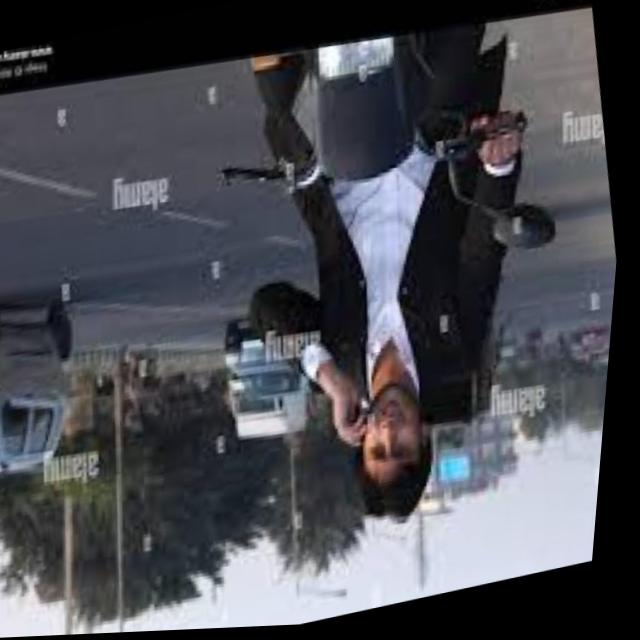USING_MOBILE: (227, 264, 397, 476)
